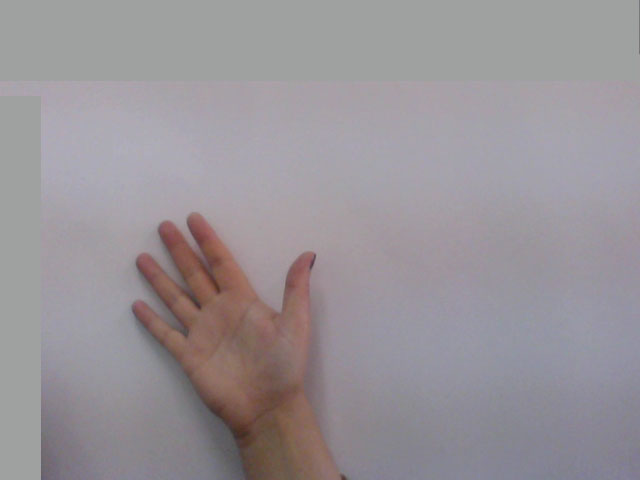hand: (118, 198, 329, 403)
